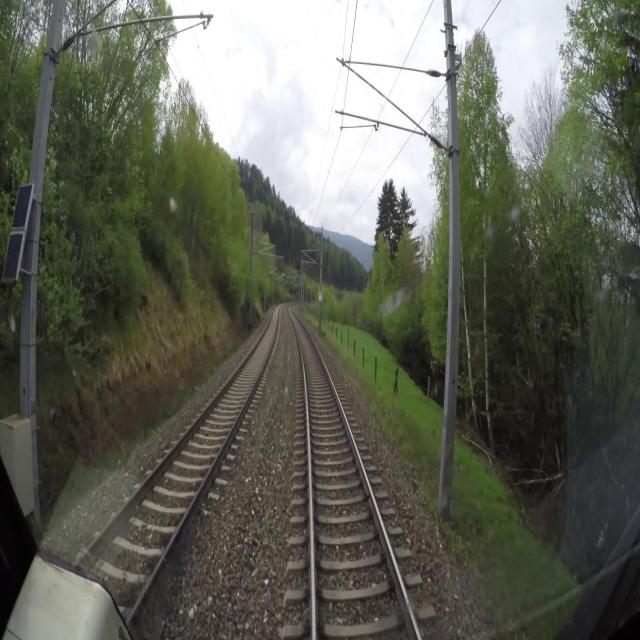rail-track: (81, 307, 278, 615), (289, 306, 417, 639)
